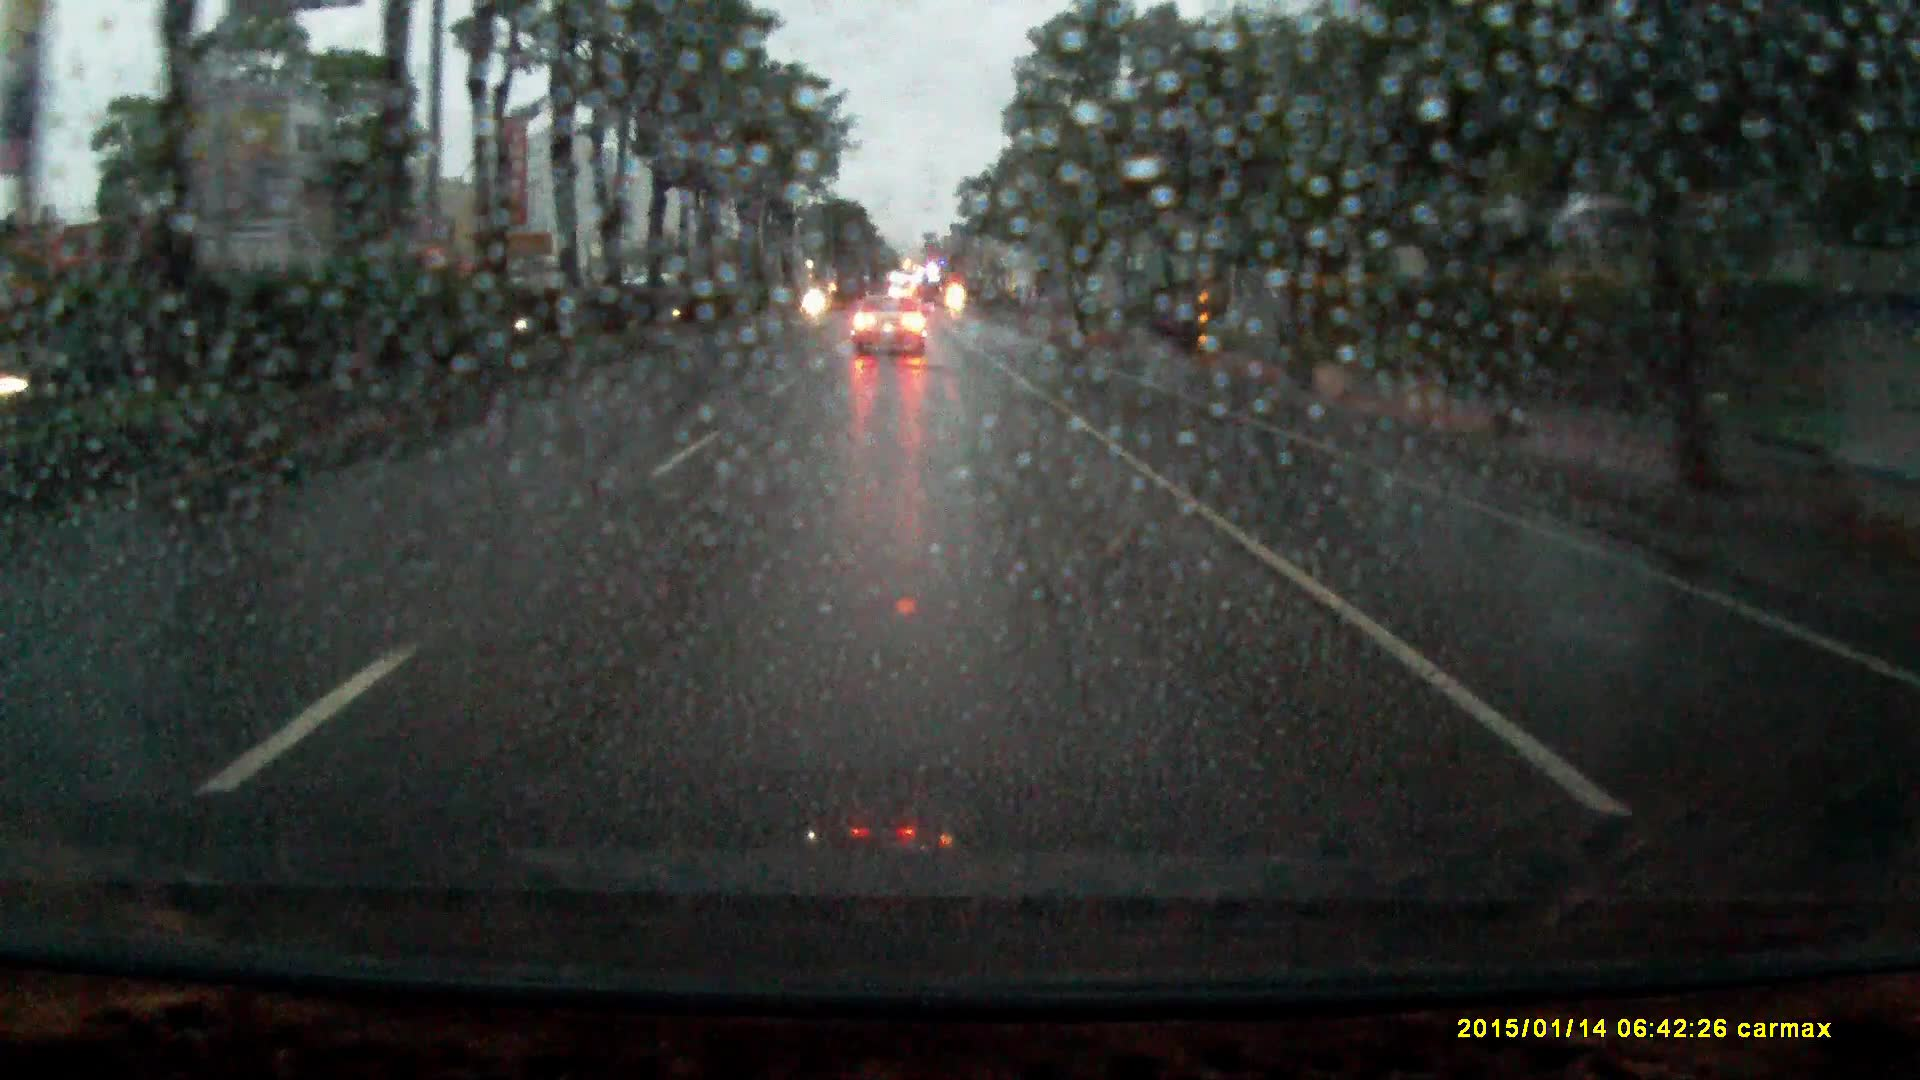vehicle: (851, 290, 931, 359)
